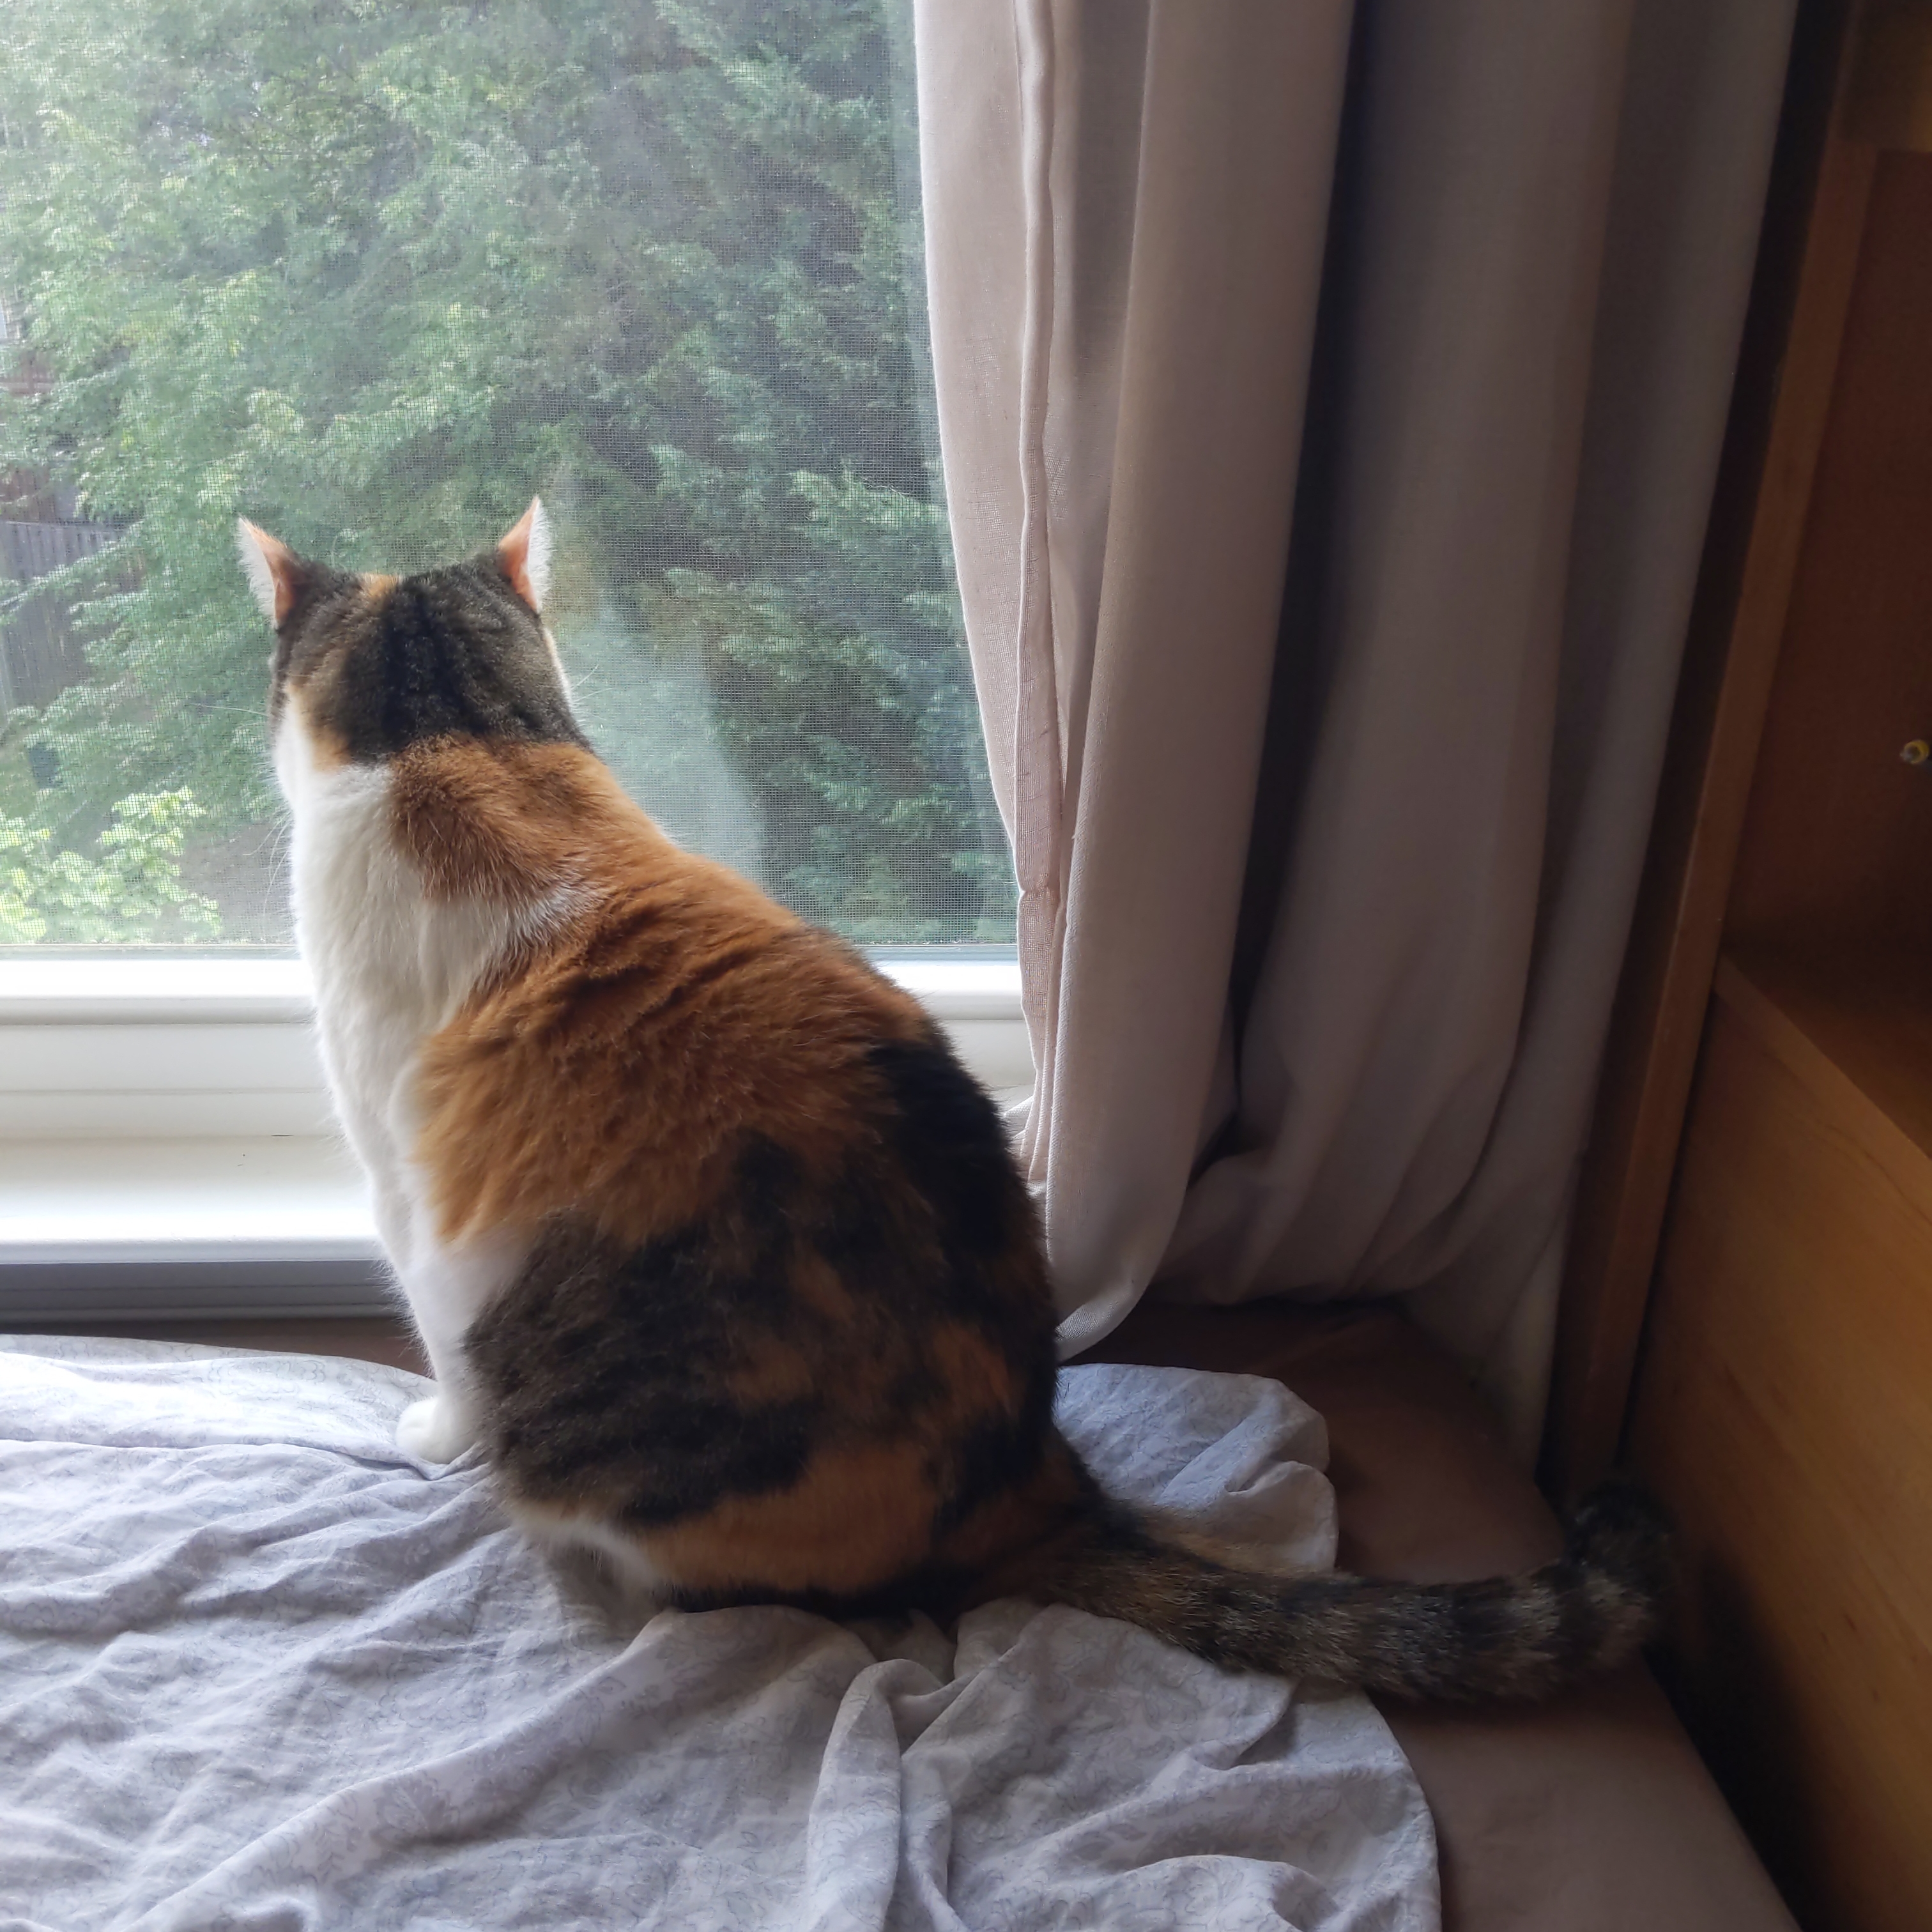Calico: (234, 495, 1670, 1709)
